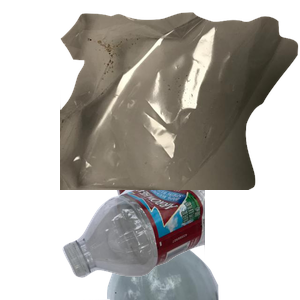glass: (83, 120, 294, 300)
metal: (84, 53, 279, 202)
plastic: (60, 190, 300, 280)
trash: (60, 10, 300, 190)
